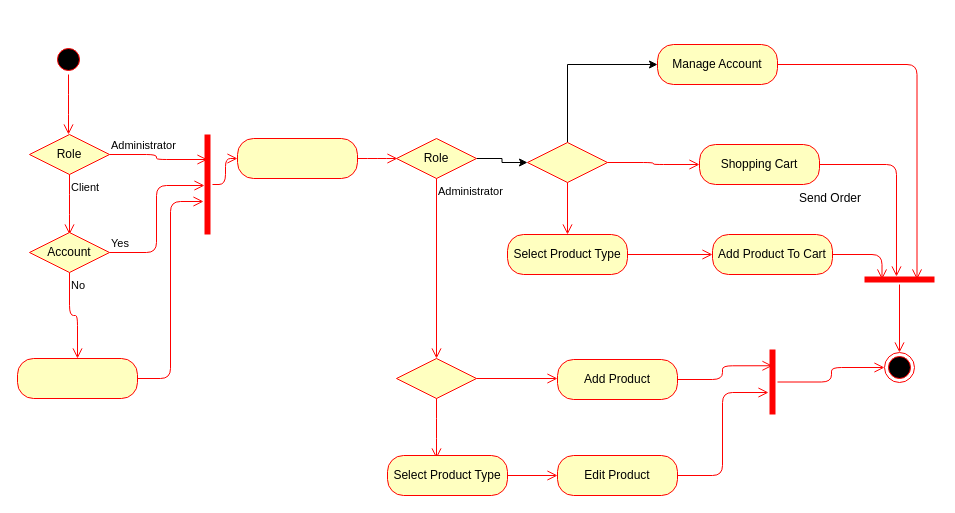
Some shapes in this 955 by 513 pixel diagram are drawn without their labels. The box of each missing label's shape, as (x1, y1, x2, y2) in pixels:
Log In: (236, 138, 358, 178)
Register: (16, 358, 138, 398)
